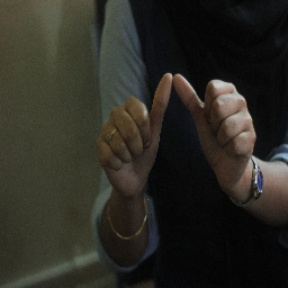A: (101, 69, 258, 187)
